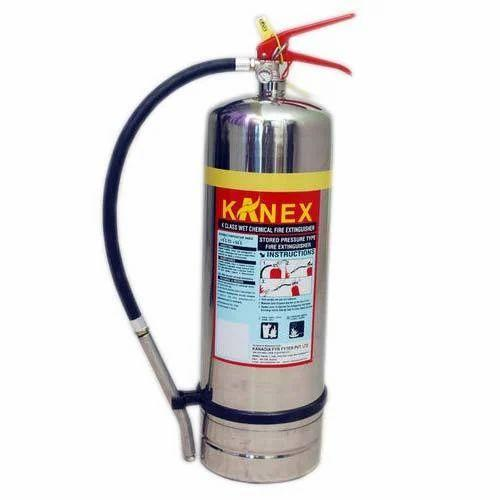Fire Extinguisher: (96, 9, 367, 494)
